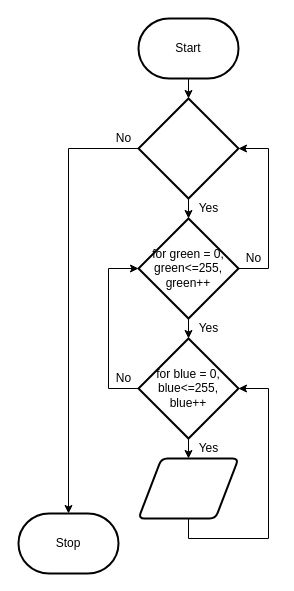
Some shapes in this 294 by 591 pixel diagram are drawn without their labels. The box of each missing label's shape, as (x1, y1, x2, y2) in pixels:
for red = 0, red<=255, red++: (137, 97, 239, 199)
print "RGB (red, green, blue)": (137, 457, 239, 519)
